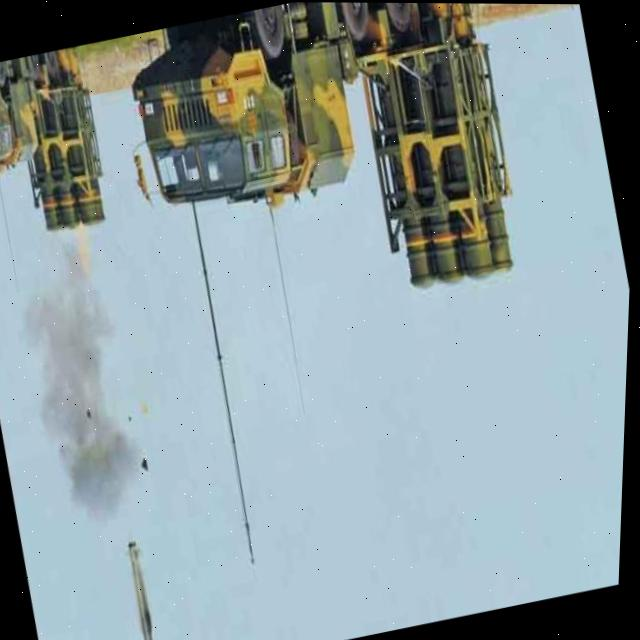missile: (120, 536, 176, 640)
